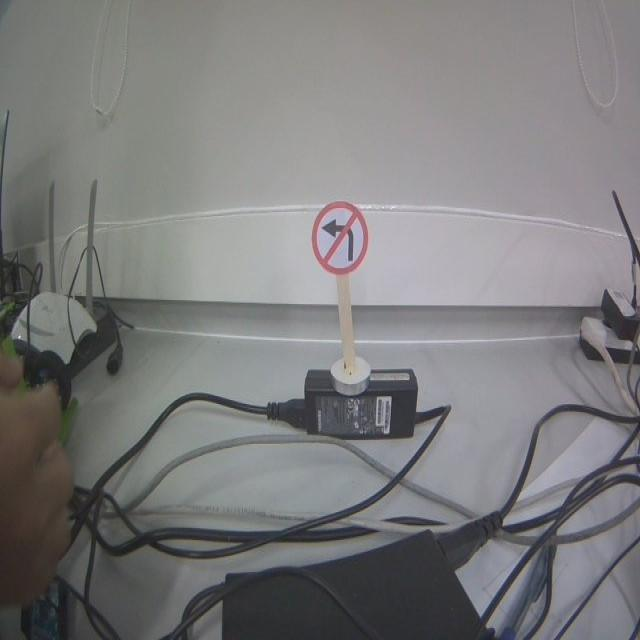Dilarang Belok Kiri: (311, 201, 368, 273)
